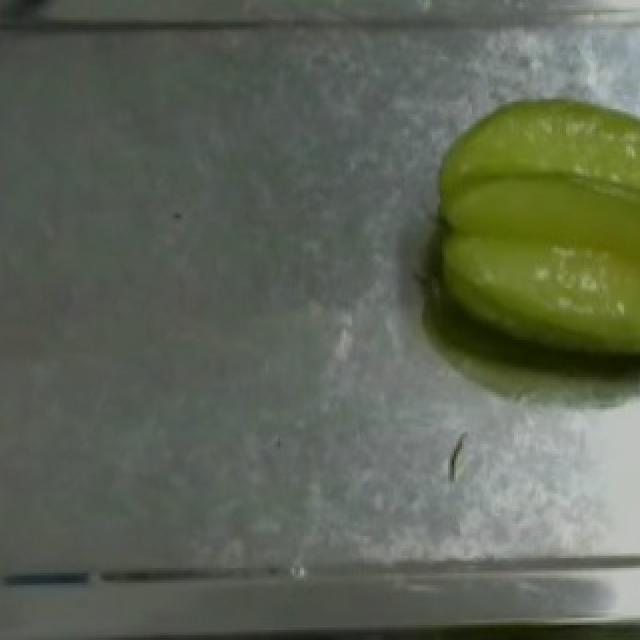fruit: (416, 77, 640, 382)
